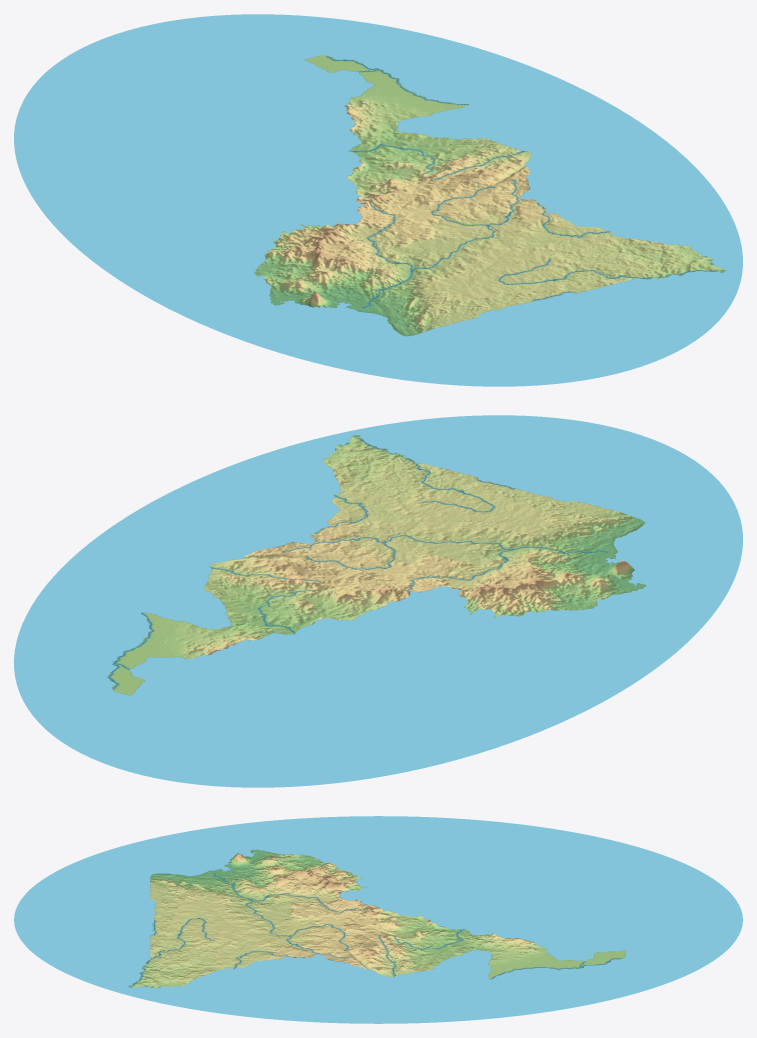
Rendered from CMR-terrain.glb.
The picture shows the model from 3 angles, top to bottom: view 1: azimuth 30°, elevation 25°; view 2: azimuth 150°, elevation 25°; view 3: azimuth 270°, elevation 25°; orthographic projection. The views are drawn at different scales.
Parts seen in each view (by area): view 1: Relevo com hidrografia; view 2: Relevo com hidrografia; view 3: Relevo com hidrografia.
Boxes of the visible parts, x1,y1,x2,y2 form: Relevo com hidrografia: (14, 14, 742, 386); Relevo com hidrografia: (14, 415, 742, 787); Relevo com hidrografia: (14, 816, 742, 1023).
Size of the model in its own units: 1.59 by 0.0319 by 2.35.
2 materials, 1 textured.
